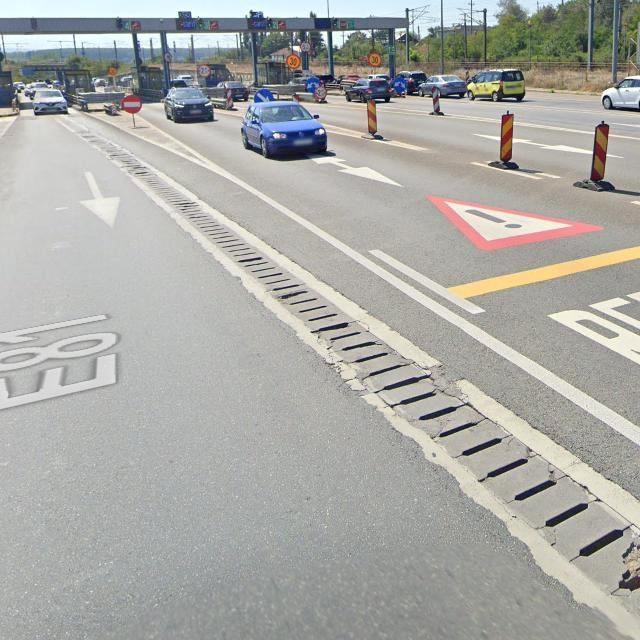forb_speed_over_30: (287, 55, 301, 70), (368, 53, 381, 67)
